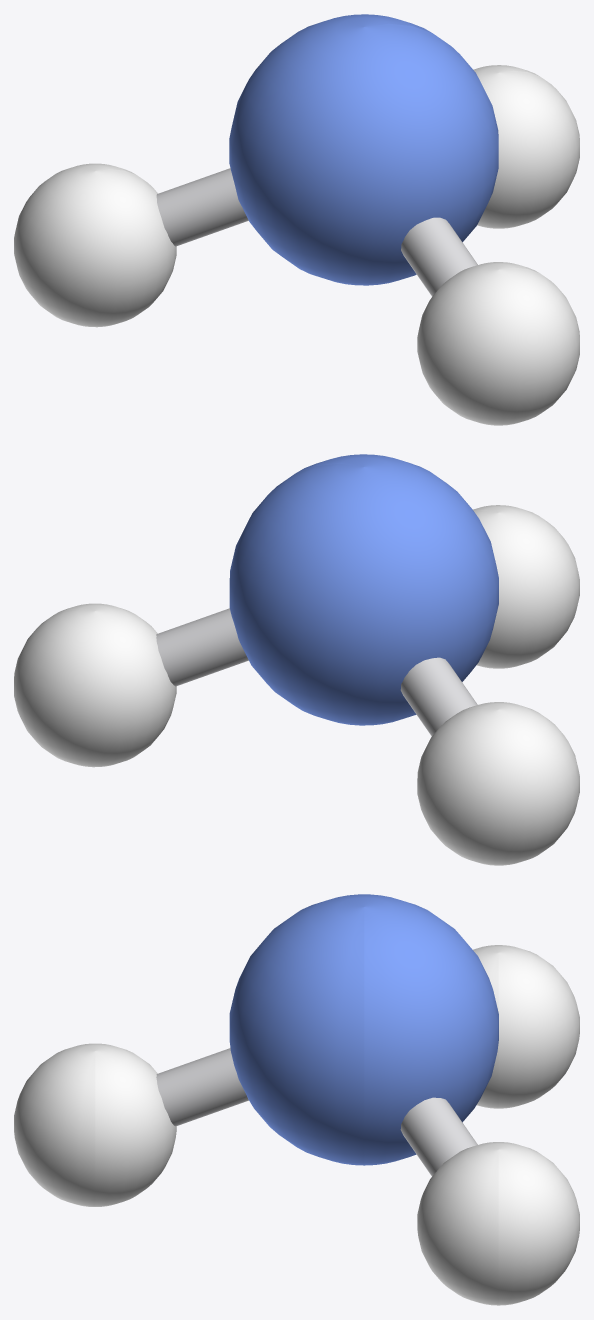
The model's file is ammonia.glb.
3 renders of one model, top to bottom at view 1: azimuth 30°, elevation 25°; view 2: azimuth 150°, elevation 25°; view 3: azimuth 270°, elevation 25°, orthographic.
Bounding box in the file's own units: 0.2686 × 0.138 × 0.242.
